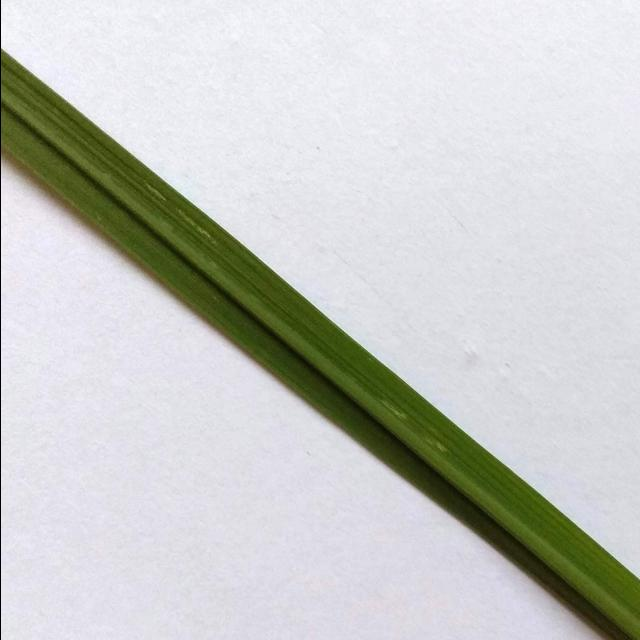healthy: (0, 1, 640, 640)
